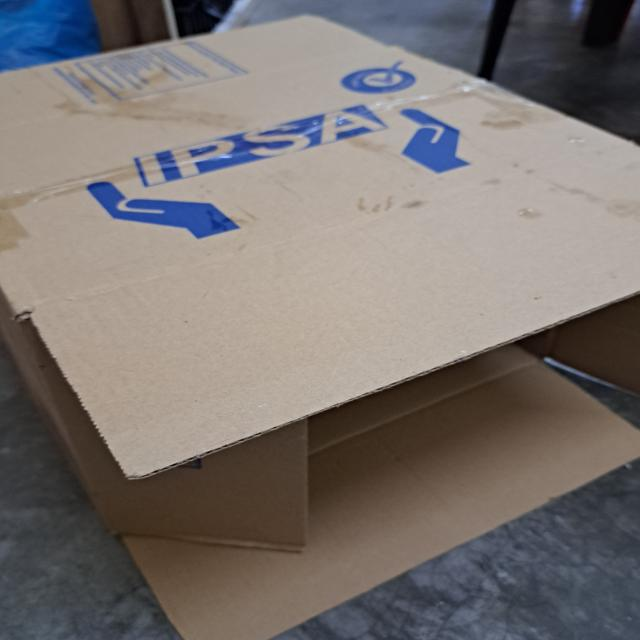cardboard: (0, 14, 640, 640)
plastic bag: (0, 0, 101, 68)
